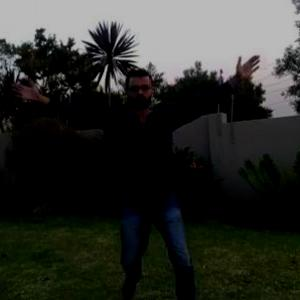takeoff: (8, 52, 260, 283)
